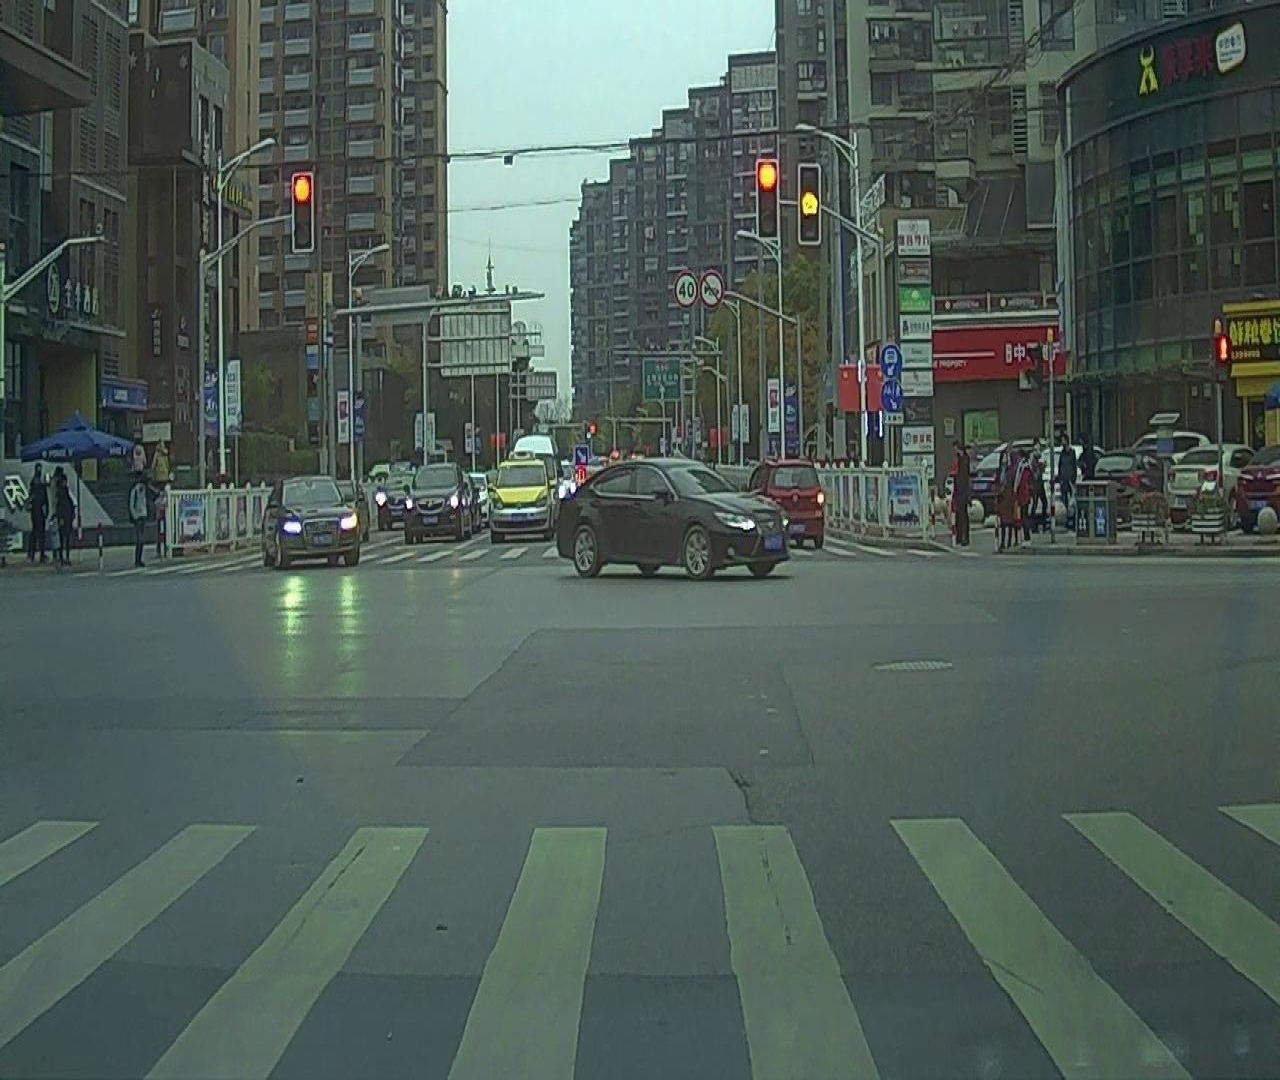red: (758, 159, 783, 238), (293, 172, 314, 249)
yellow: (802, 165, 822, 241)
